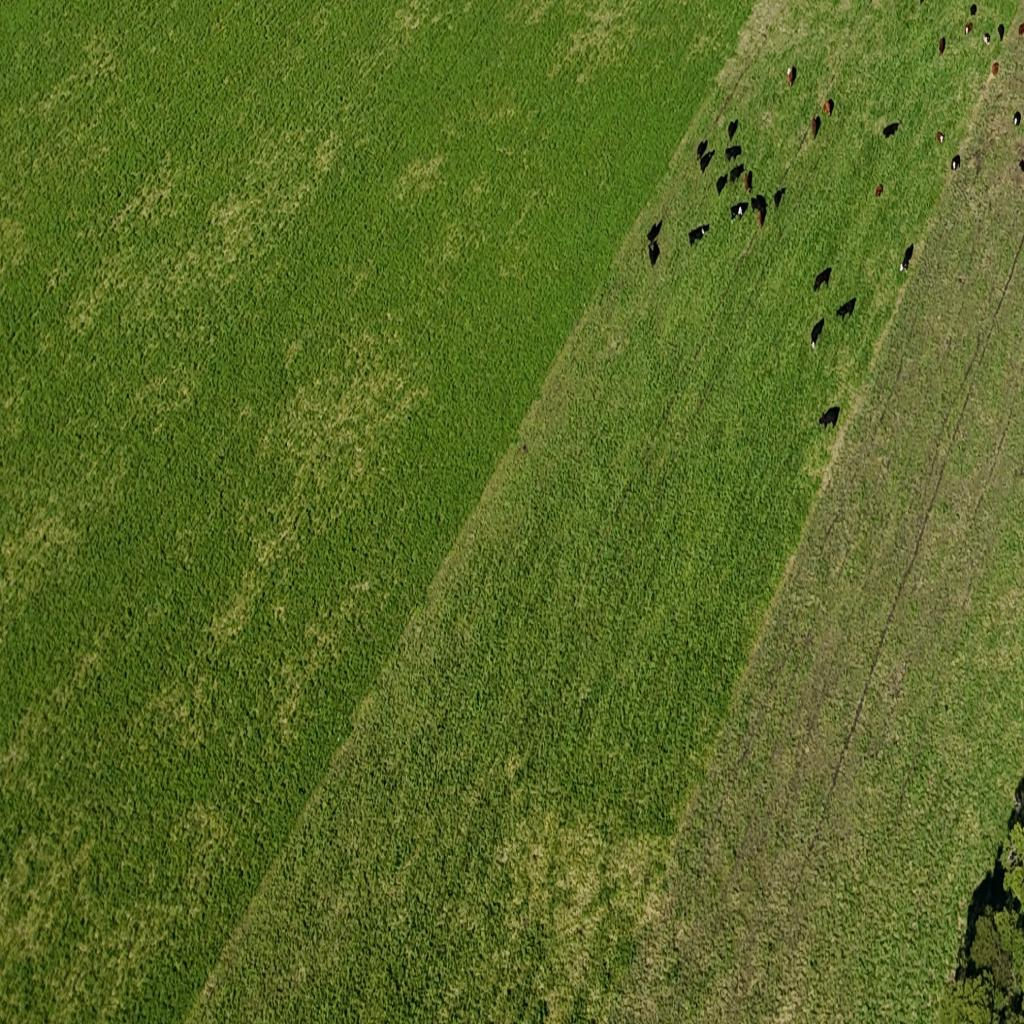cow: (818, 405, 840, 431), (835, 297, 856, 322), (689, 223, 710, 247), (810, 317, 824, 351), (814, 267, 832, 292), (646, 220, 662, 246), (716, 171, 729, 196), (724, 145, 742, 163), (900, 246, 912, 272), (729, 165, 743, 185), (882, 122, 899, 138), (774, 188, 786, 209), (728, 119, 739, 141), (811, 116, 820, 140), (744, 170, 753, 193), (731, 204, 743, 221), (696, 138, 705, 160), (823, 99, 833, 117), (701, 152, 710, 171), (938, 36, 946, 56), (951, 155, 960, 172), (751, 198, 763, 210), (1013, 110, 1021, 127), (992, 61, 1000, 77), (757, 210, 763, 230), (965, 21, 973, 36), (998, 24, 1005, 41), (787, 66, 793, 85), (936, 132, 944, 146), (875, 184, 883, 198), (983, 32, 991, 46), (970, 2, 977, 16)
